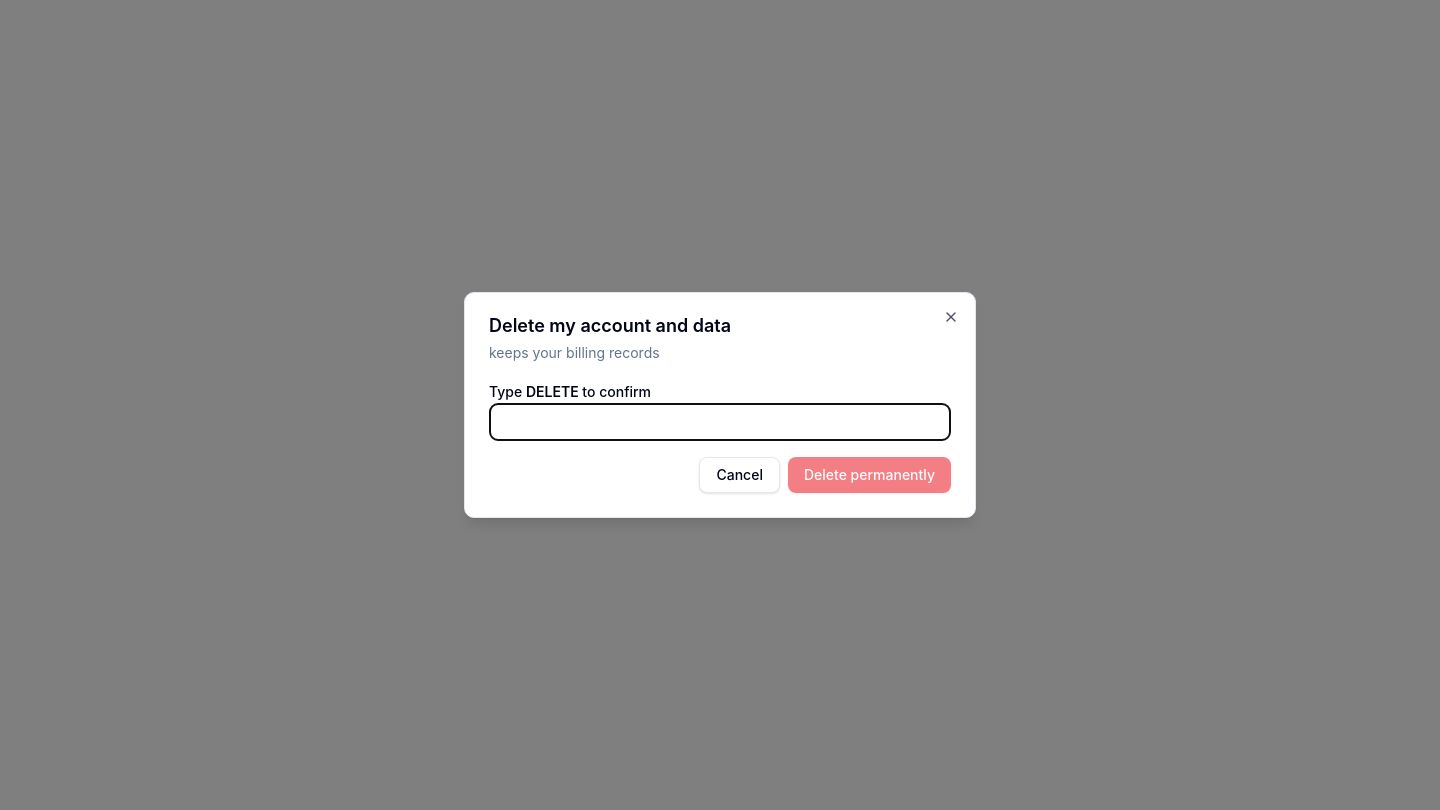
ErasureConfirmDialog (#482) › states what is retained and gates the action behind typing the exact word (AC3/AC4)
The image size is (1440, 810).
Expected: the text "keeps your billing records" is shown, [489,344,660,361]
Expected: the button with test id "confirm-erasure" is disabled, [788,457,951,493]
Type "delete" into the field labelled "Type DELETE to confirm" at point(720, 422), box [489,403,951,441]
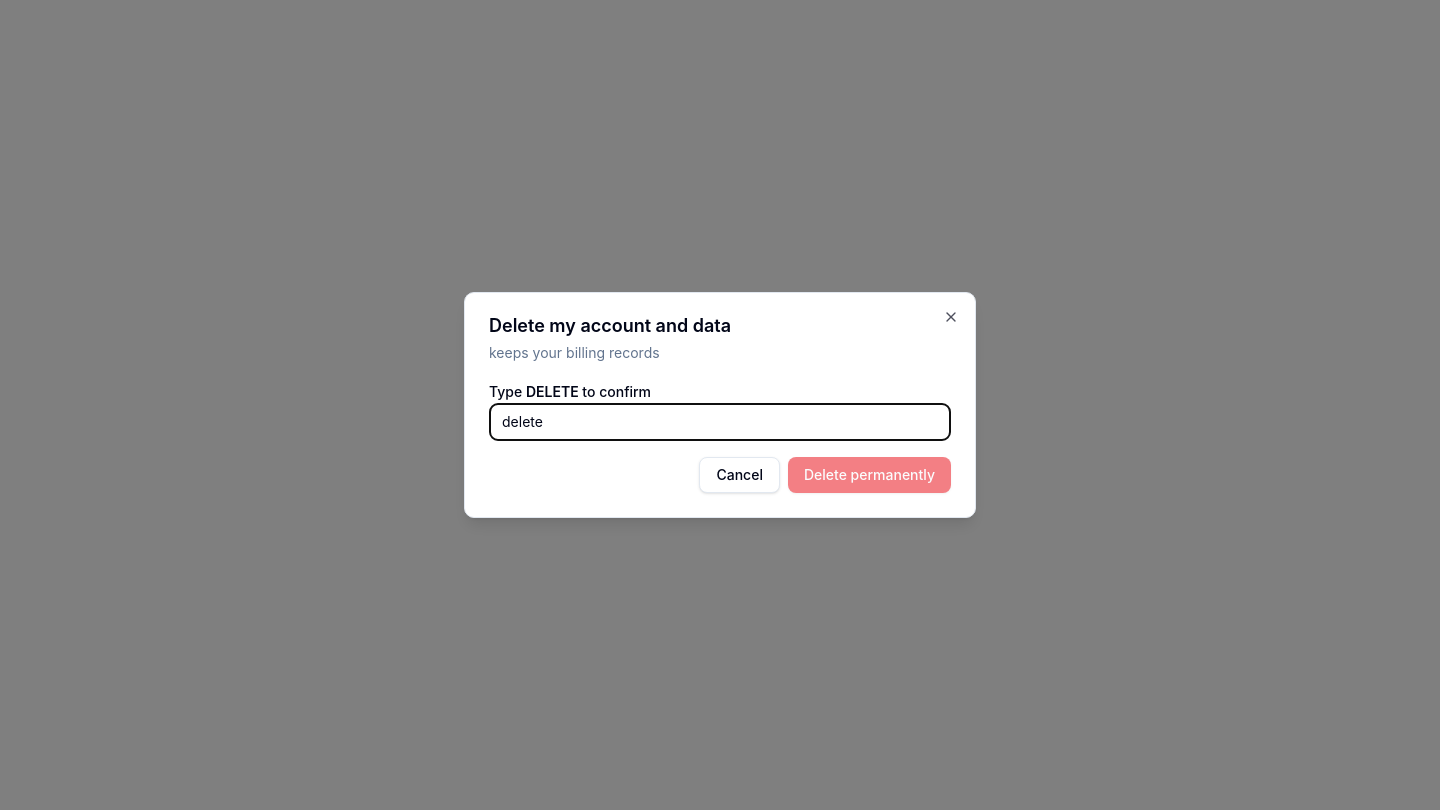
Expected: the button with test id "confirm-erasure" is disabled, [788,457,951,493]
Replace the text in the field labelled "Type DELETE to confirm" with "DELETE" at point(720, 422), box [489,403,951,441]
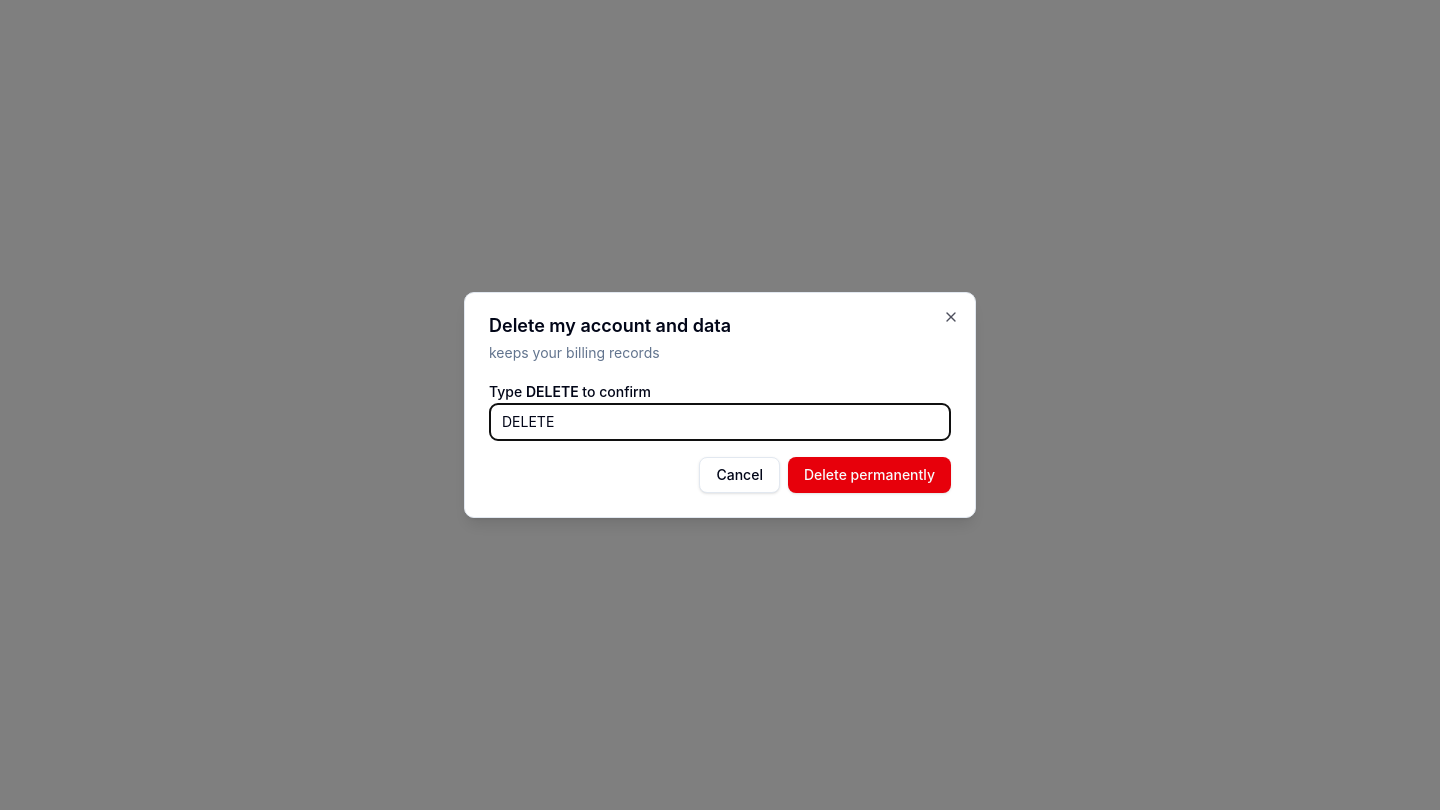
Expected: the button with test id "confirm-erasure" is enabled, [788,457,951,493]
